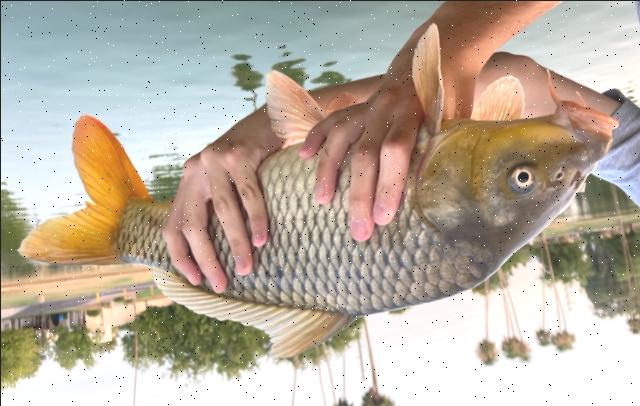Mulut: (541, 72, 623, 166)
Sirip Dada: (398, 15, 524, 151)
Sirip Ekor: (17, 105, 146, 286)
Sirip Perut: (245, 54, 342, 156)
Sirip Punggung: (140, 262, 360, 368)
